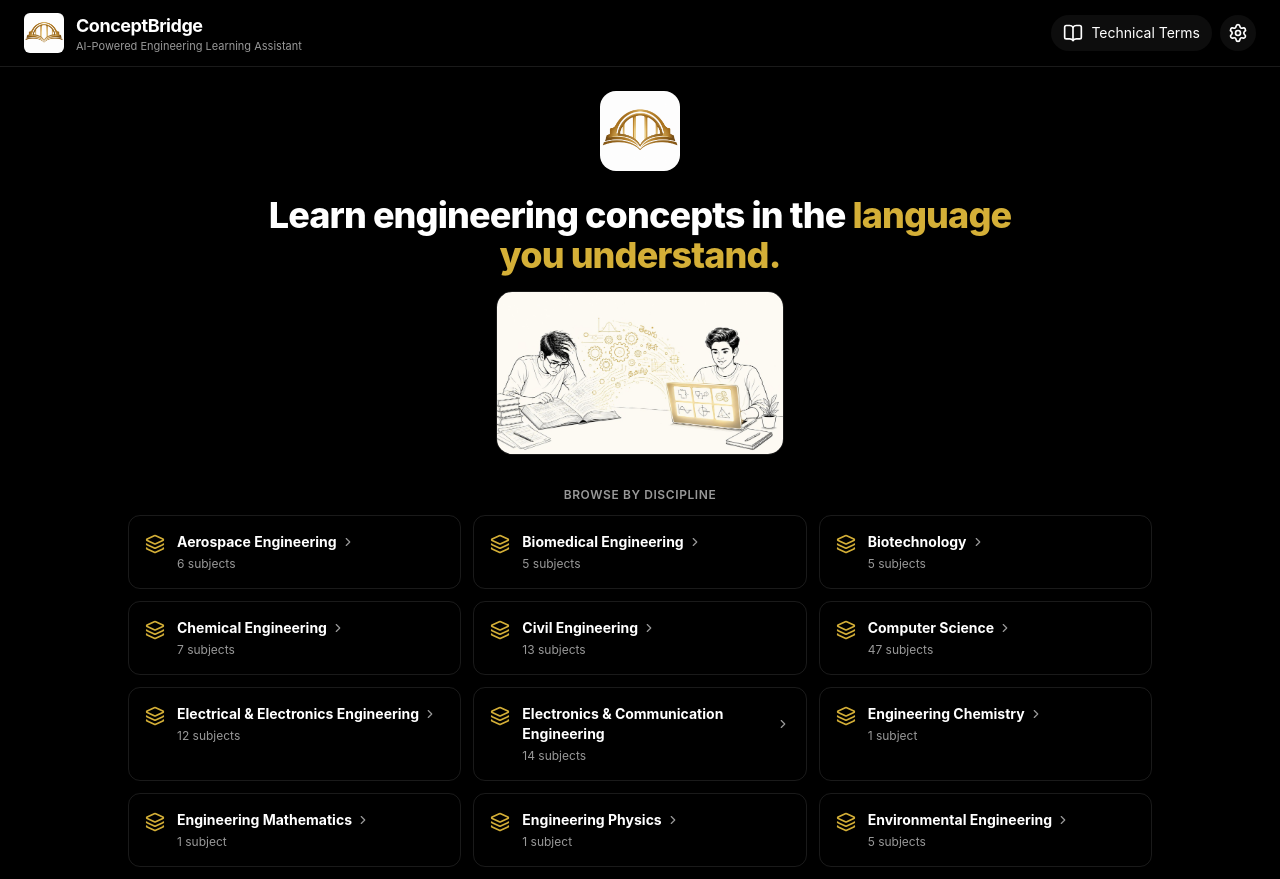
Test: App — discipline/subject/topic catalogue navigation › Home button in the header returns to the landing screen from deep in a topic
Click the button "Engineering Physics 1 subject" at point(640, 830), box [473,793,807,867]
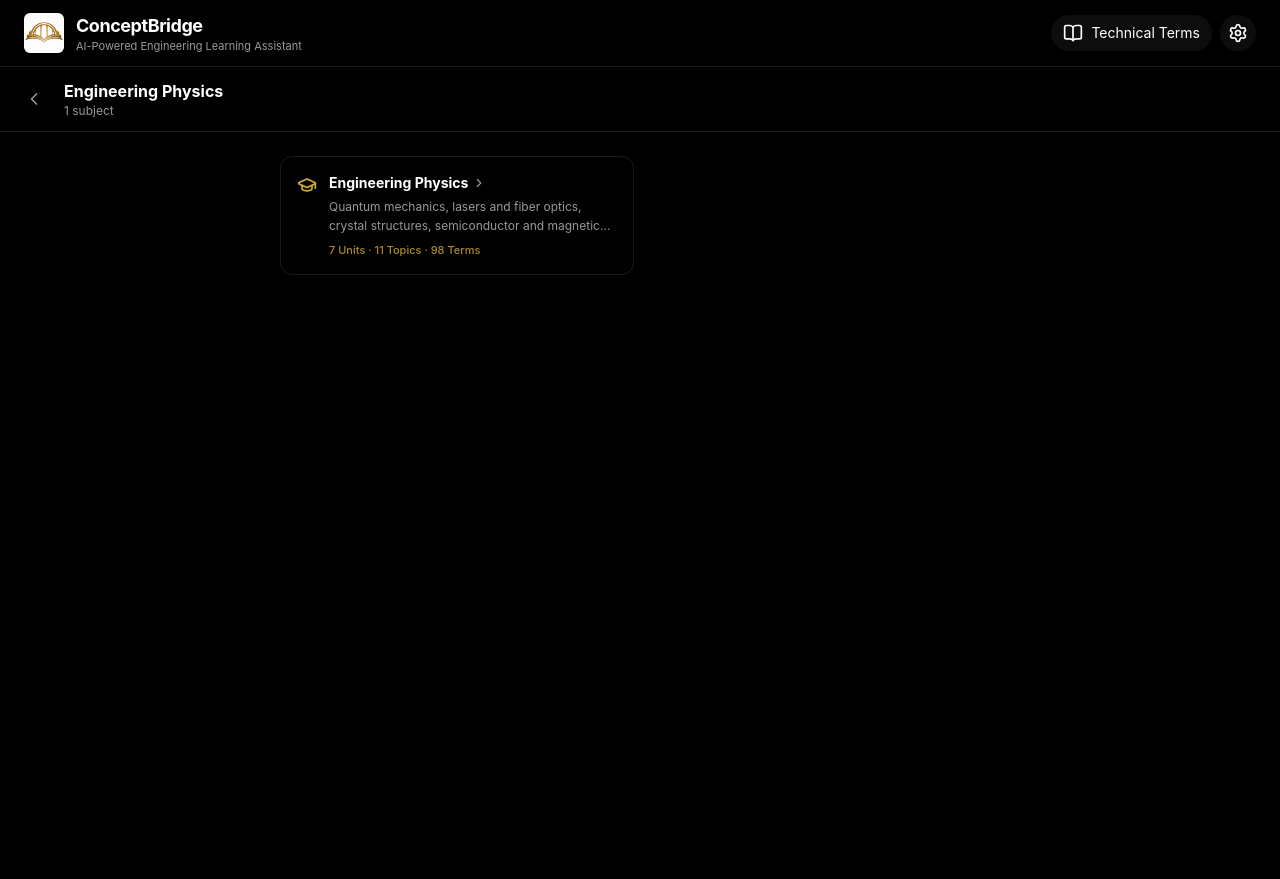
Click the 2nd heading "Engineering Physics" at point(408, 182), box [329,174,486,191]
(page scrolled)
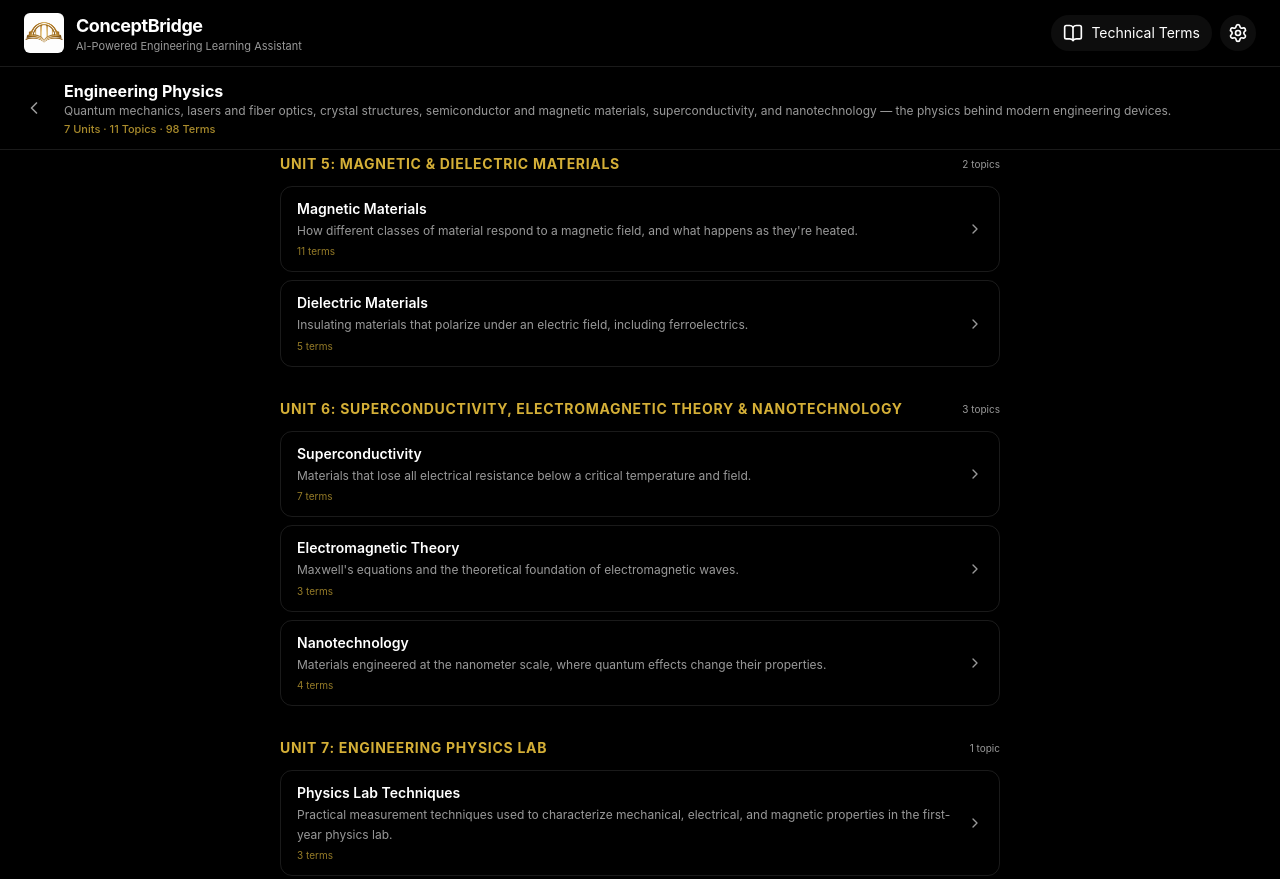
Click the heading "Nanotechnology" at point(353, 642), box [297,634,409,651]
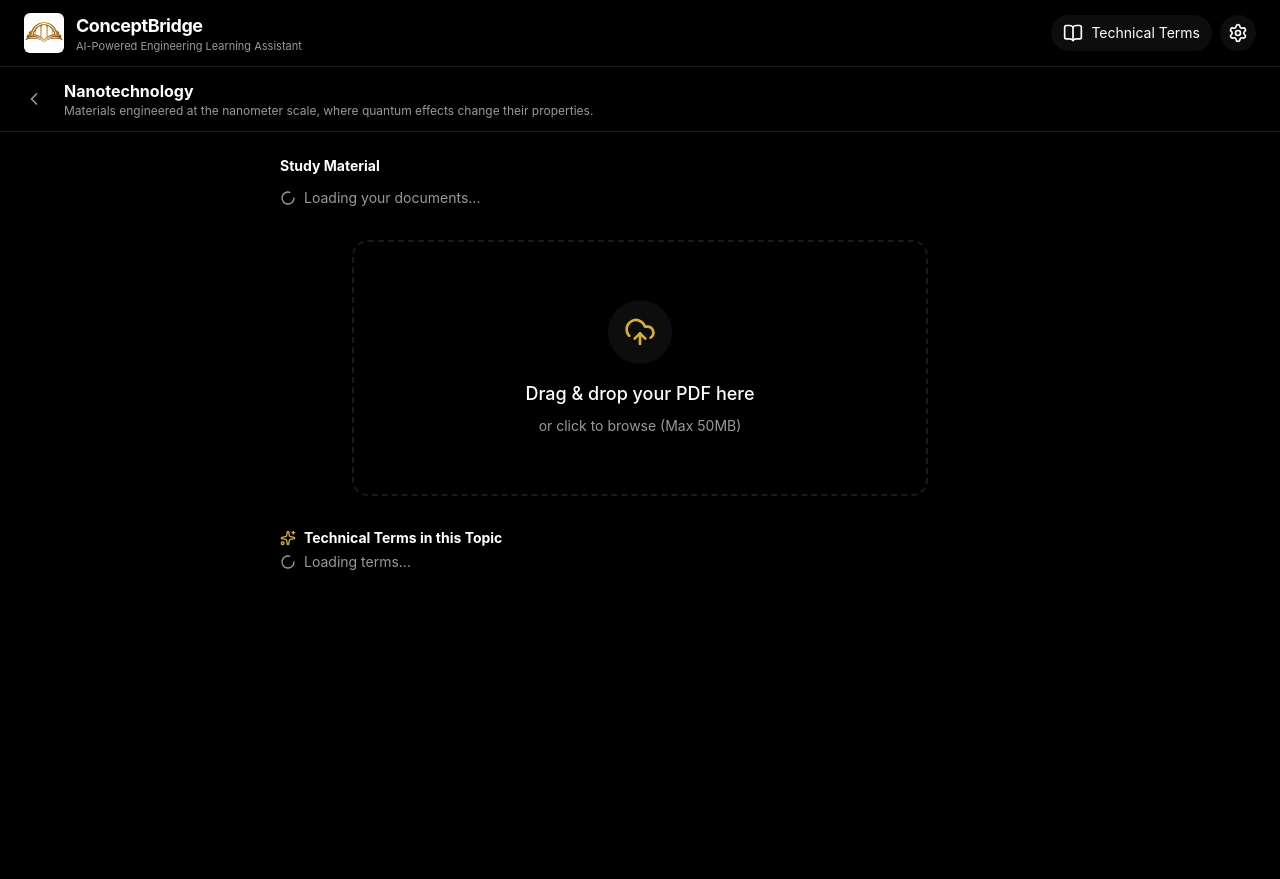
Click the button with aria-label "Go to ConceptBridge home" at point(163, 33), box [24,12,302,54]
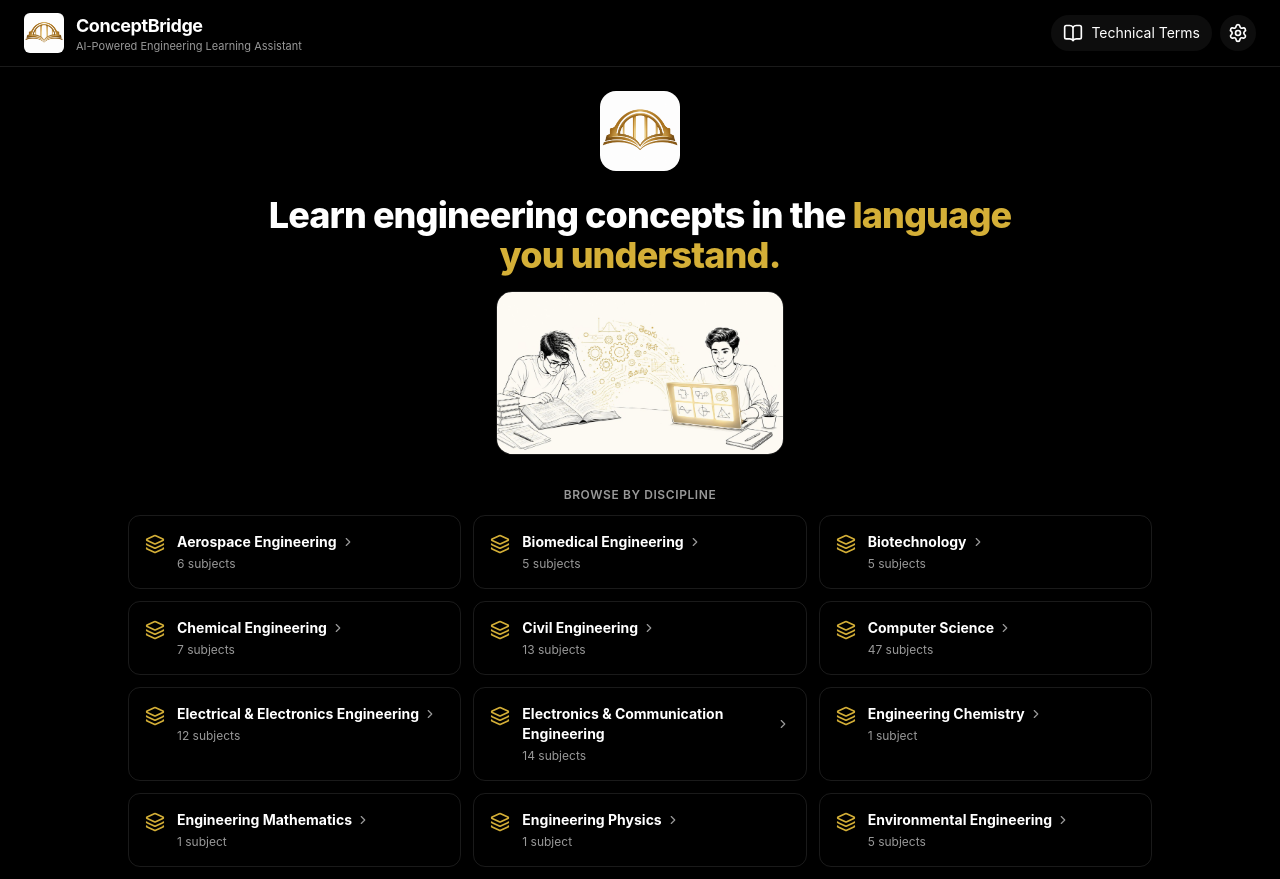
Result: the heading "Learn engineering concepts in the language you understand." is shown at [256,195,1024,275]
Result: the button "Engineering Physics 1 subject" is shown at [473,793,807,867]
